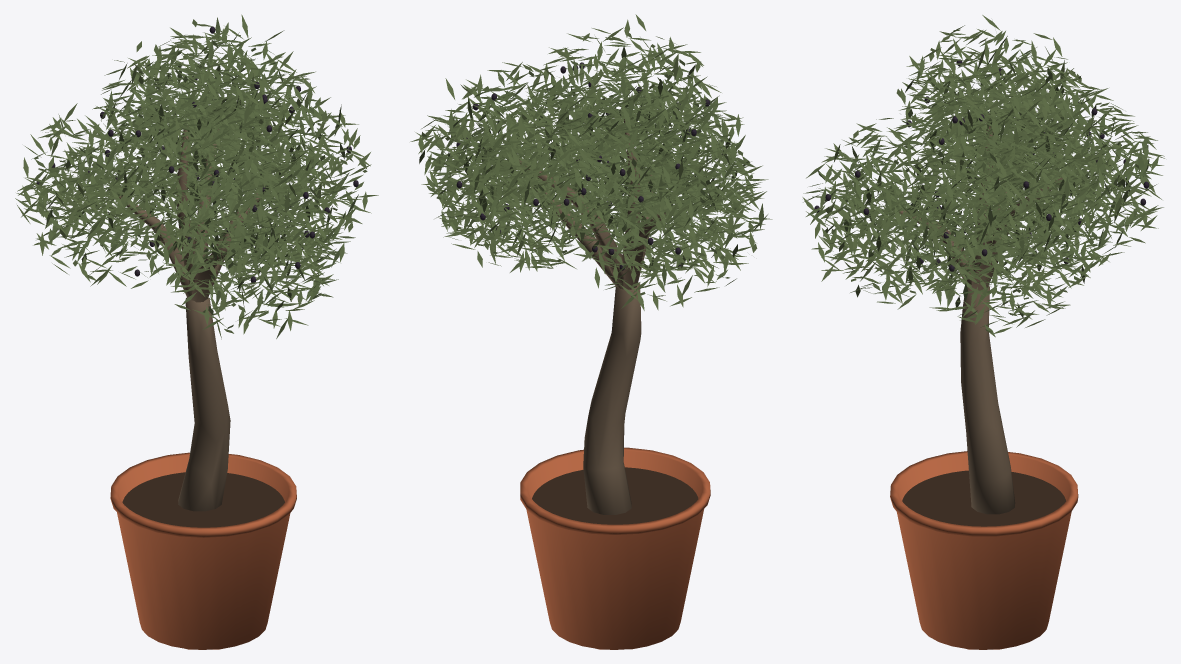
File: olivo.glb
3 views of the same model, side by side, from view 1: azimuth 30°, elevation 25°; view 2: azimuth 150°, elevation 25°; view 3: azimuth 270°, elevation 25° (orthographic). The views are drawn at different scales.
Visible parts, largest first — view 1: hojas, maceta, rama_0, tierra, frutos; view 2: hojas, maceta, rama_0, tierra, frutos; view 3: hojas, maceta, rama_0, tierra, frutos.
Part boxes in pixels (box(x1,y1,x2,y2)): hojas: box(15, 14, 378, 339); maceta: box(110, 452, 296, 649); rama_0: box(119, 126, 261, 511); tierra: box(122, 472, 284, 527); frutos: box(36, 26, 358, 282); hojas: box(410, 14, 772, 310); maceta: box(520, 447, 710, 649); rama_0: box(519, 119, 665, 514); tierra: box(532, 467, 698, 524); frutos: box(456, 62, 726, 270); hojas: box(802, 15, 1164, 337); maceta: box(890, 451, 1078, 649); rama_0: box(899, 114, 1062, 514); tierra: box(902, 470, 1065, 526); frutos: box(814, 59, 1149, 271).
Size of the model in its own units: 1.19 by 2.01 by 1.13.
